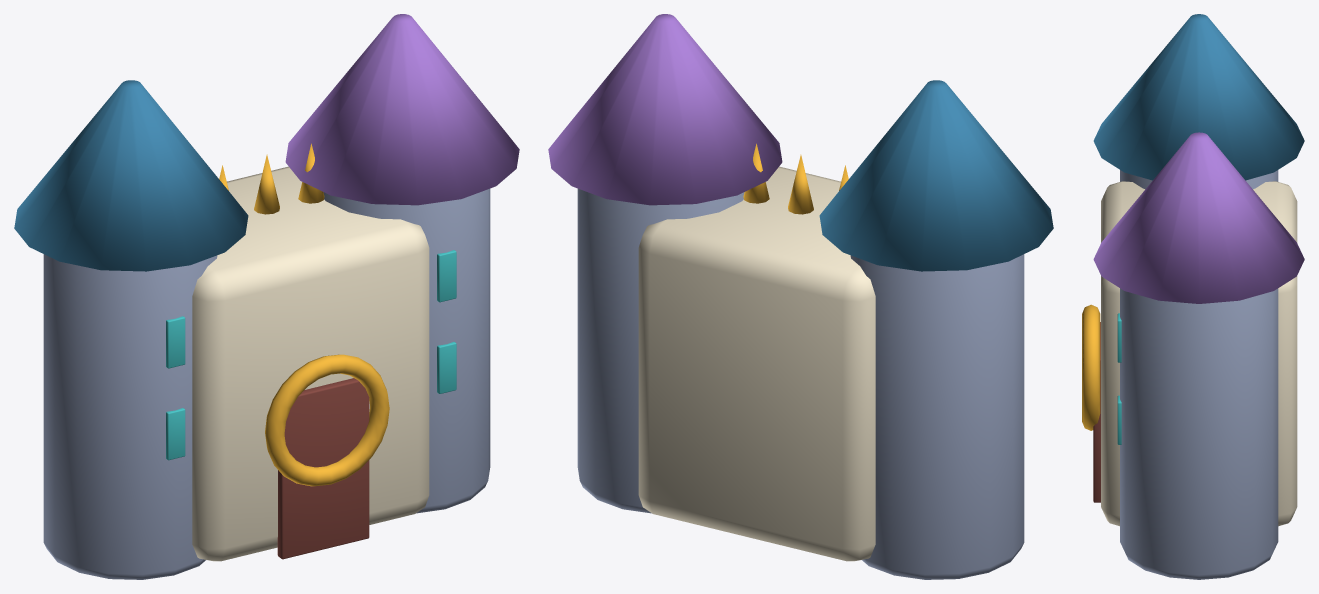
The model's file is r016_sky_lagoon_castle_towers_castle_tower_03.glb.
3 renders of one model, left to right at view 1: azimuth 30°, elevation 25°; view 2: azimuth 150°, elevation 25°; view 3: azimuth 270°, elevation 25°, orthographic. The views are drawn at different scales.
Visible parts, largest first — view 1: r016_sky_lagoon_castle_towers_castle_tower_03.001; view 2: r016_sky_lagoon_castle_towers_castle_tower_03.001; view 3: r016_sky_lagoon_castle_towers_castle_tower_03.001.
Part boxes in pixels (box(x1,y1,x2,y2)): r016_sky_lagoon_castle_towers_castle_tower_03.001: box(14, 14, 519, 579); r016_sky_lagoon_castle_towers_castle_tower_03.001: box(548, 14, 1053, 579); r016_sky_lagoon_castle_towers_castle_tower_03.001: box(1082, 14, 1304, 579).
Size of the model in its own units: 6.51 by 6.05 by 2.95.
